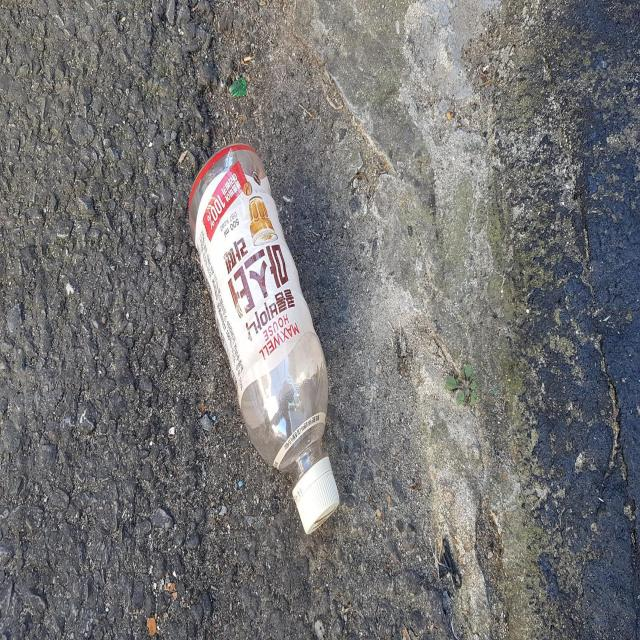plastic: (188, 143, 340, 534)
